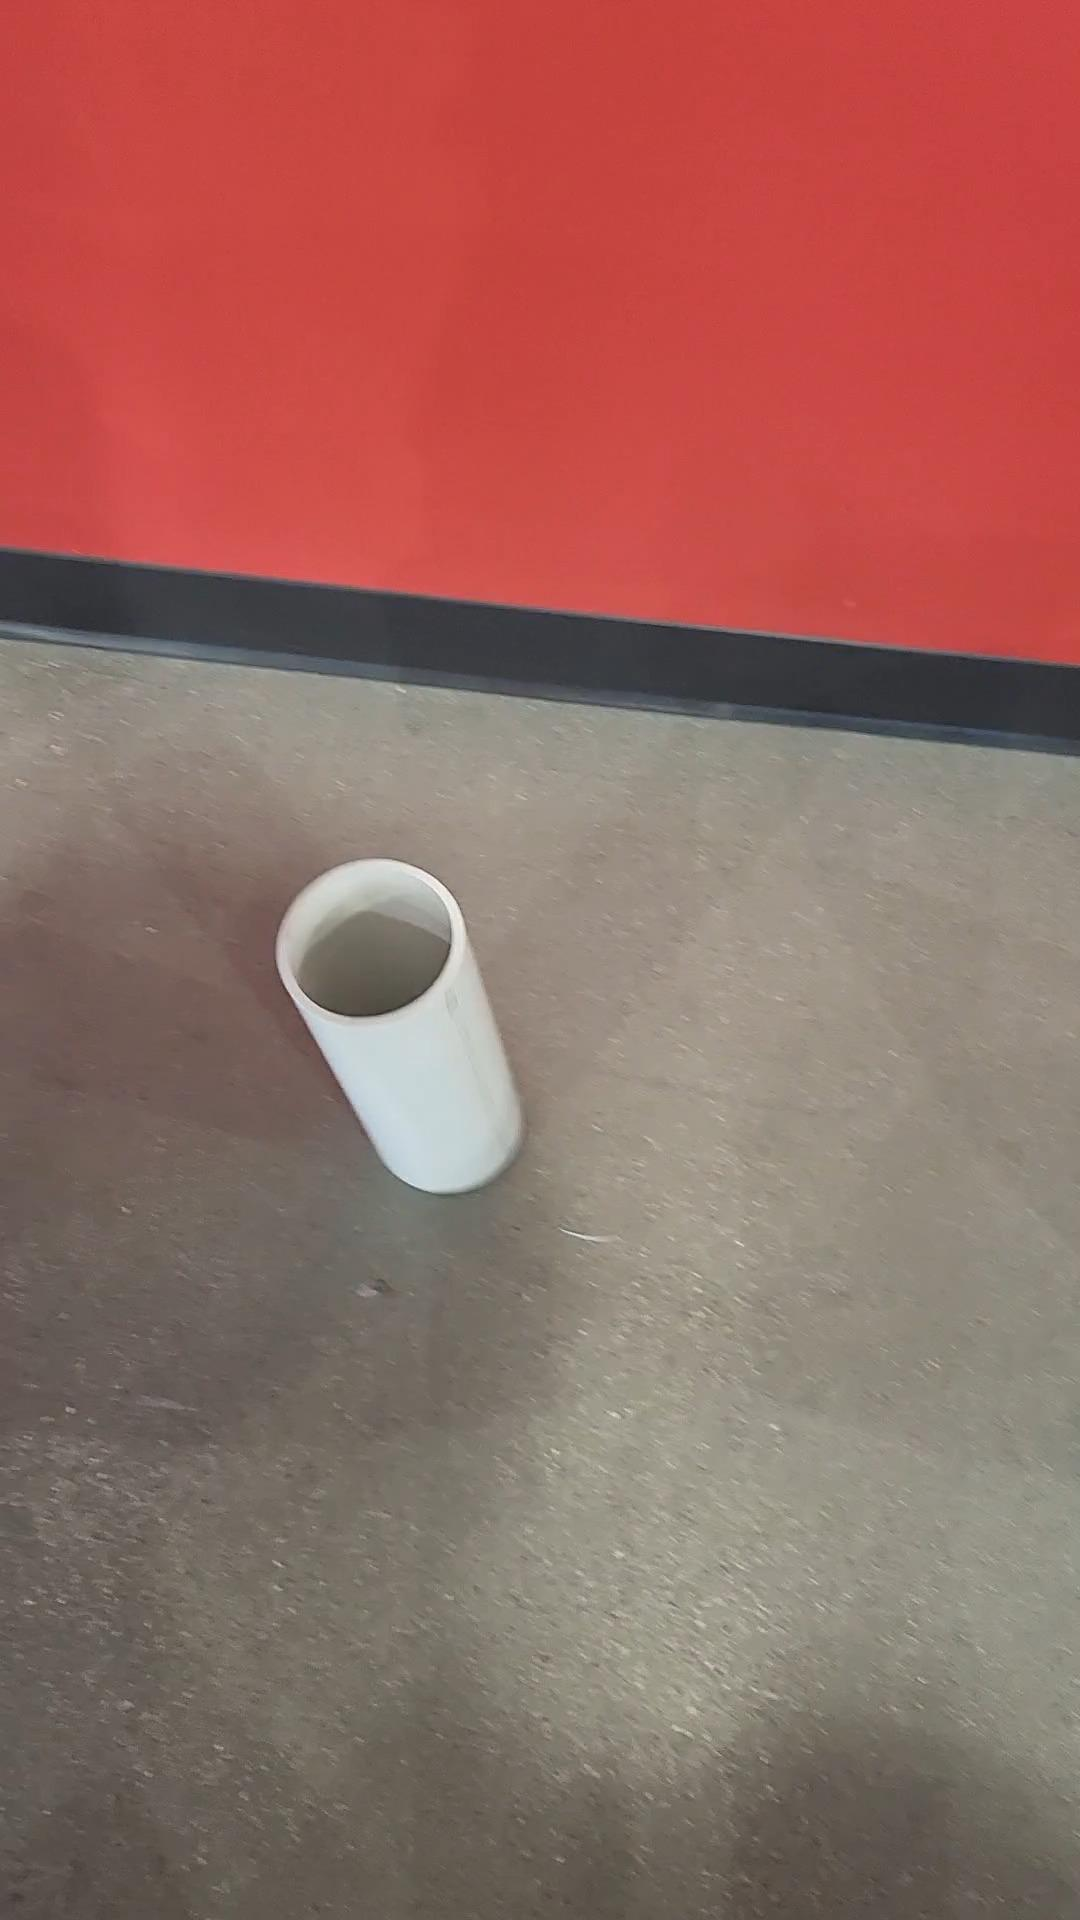coral: (270, 855, 533, 1203)
